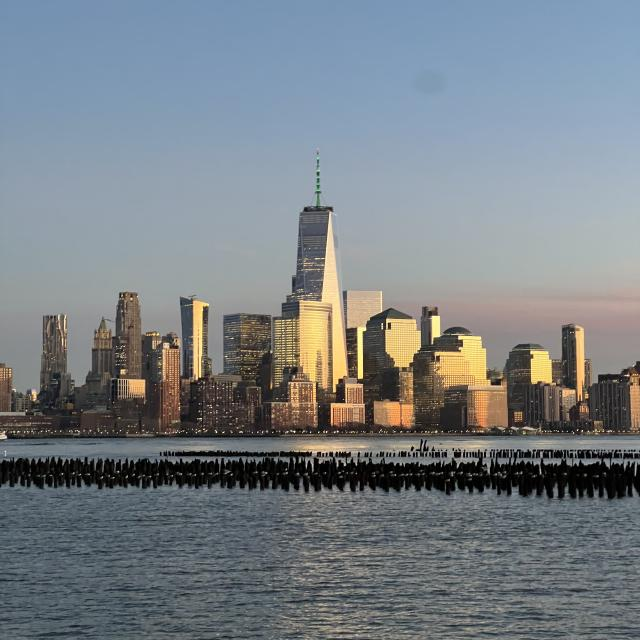WTC: (293, 148, 340, 298)
